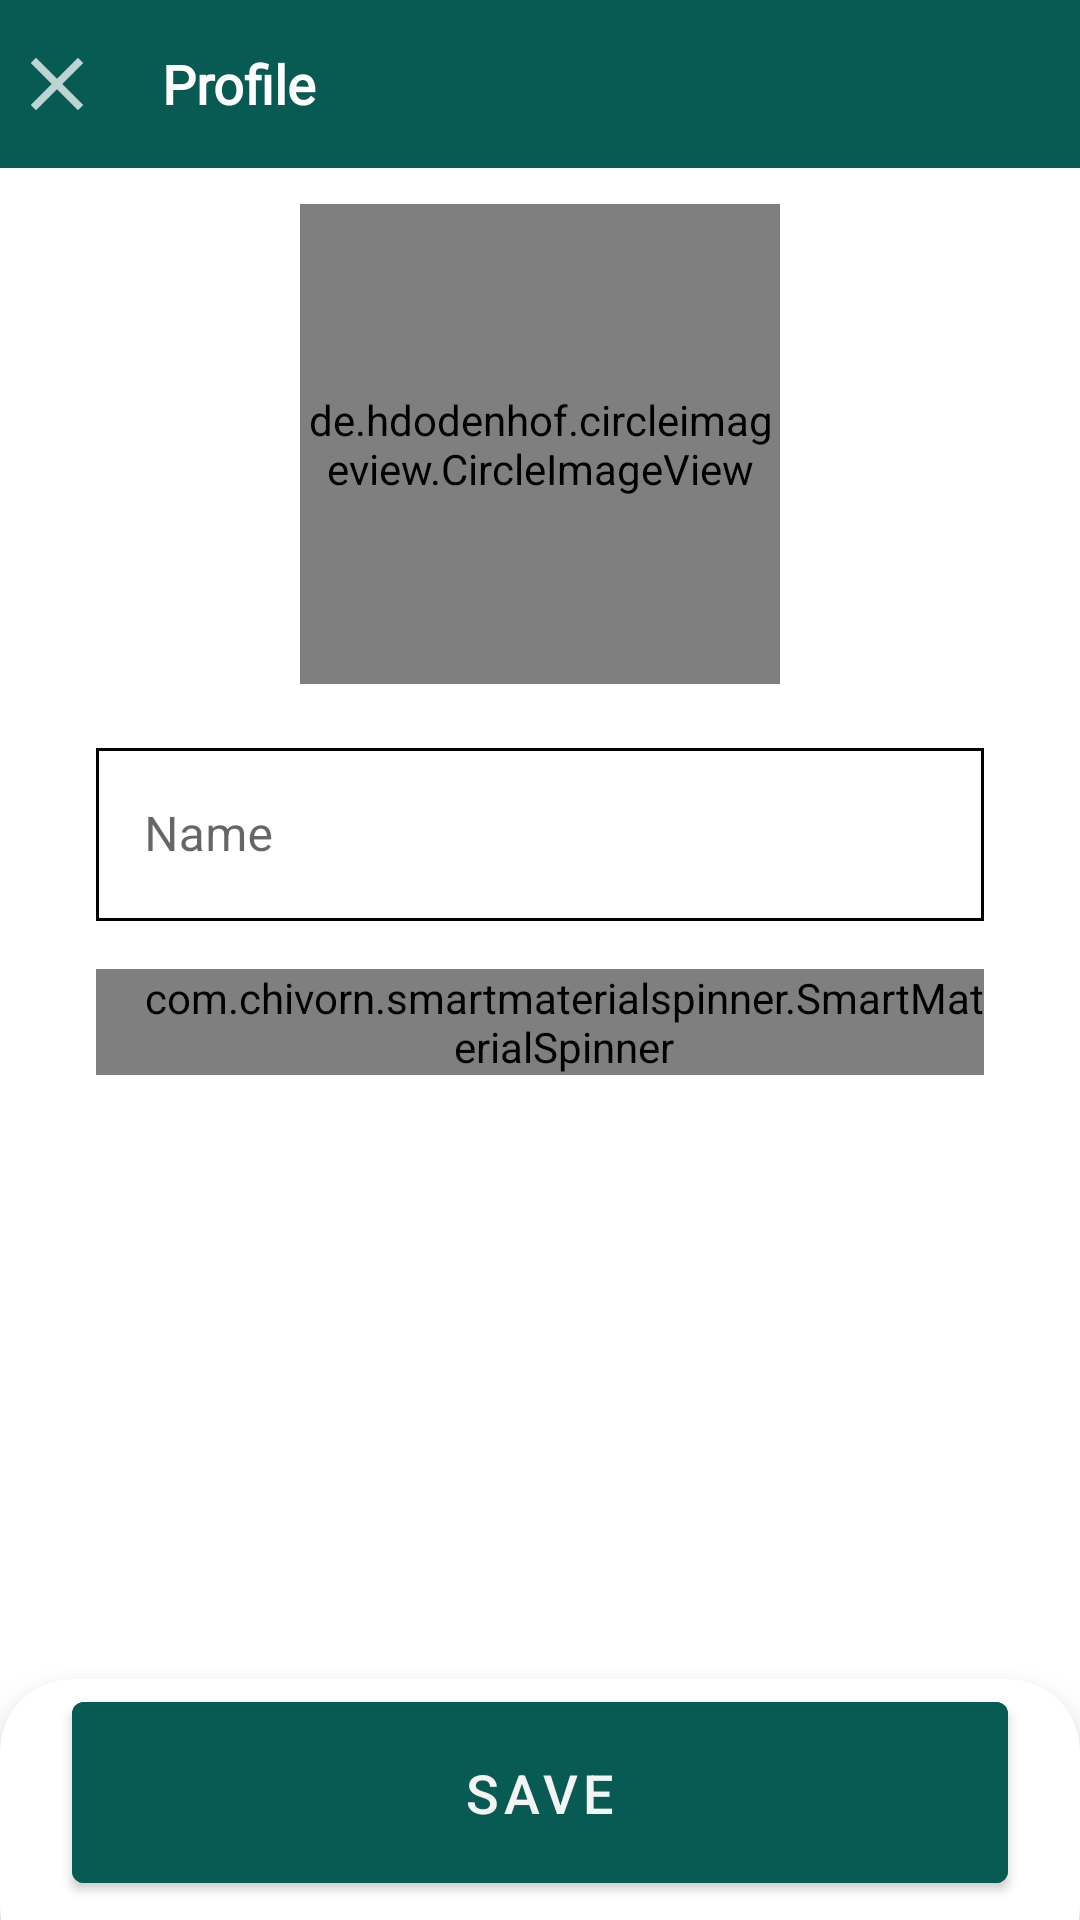

Icons on this 1080px×1920px Android screen, each with the point to tap as point (x, y):
close: point (57, 84)
